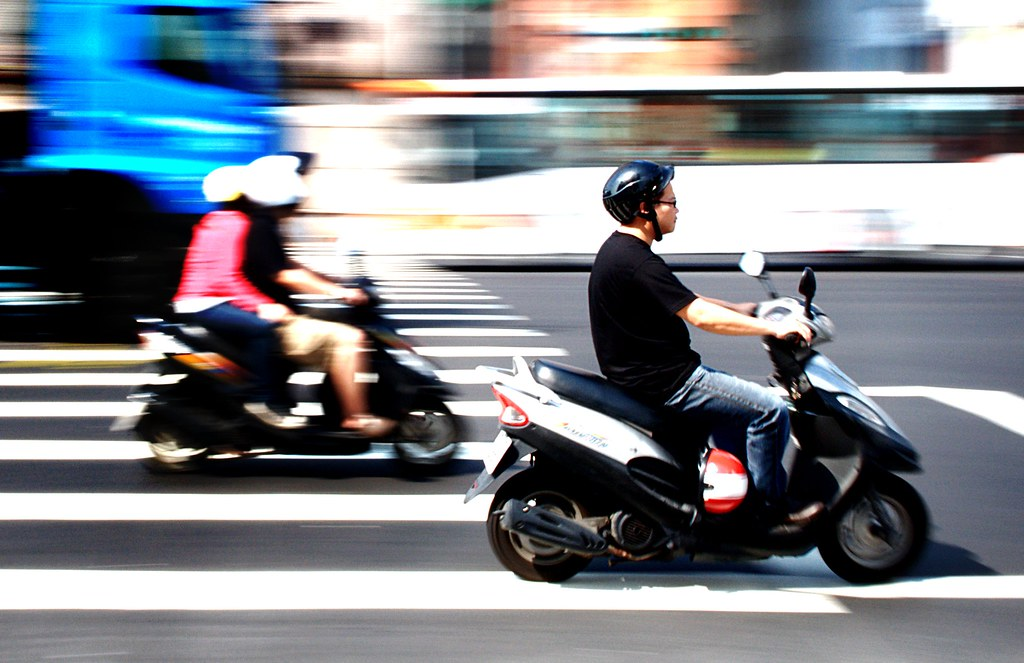helmet: (592, 166, 679, 220)
